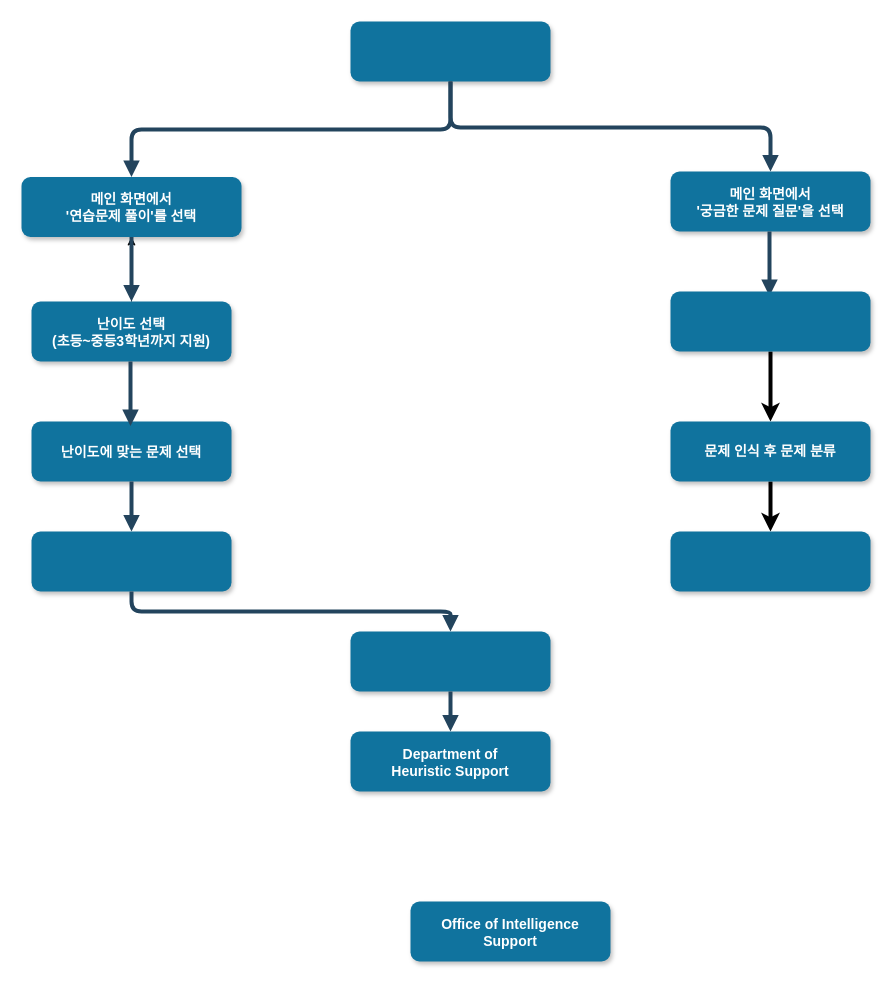
Some shapes in this 893 by 985 pixel diagram are drawn without their labels. The centre of each missing label's shape, as x and y in pixels:
Office of Backtrack Analysis: (x=451, y=662)
Office of Global Support: (x=132, y=562)
사용자와 상호작용 (구두 인사 or 하이파이브): (x=451, y=52)
카메라에 문제 인식: (x=771, y=322)
